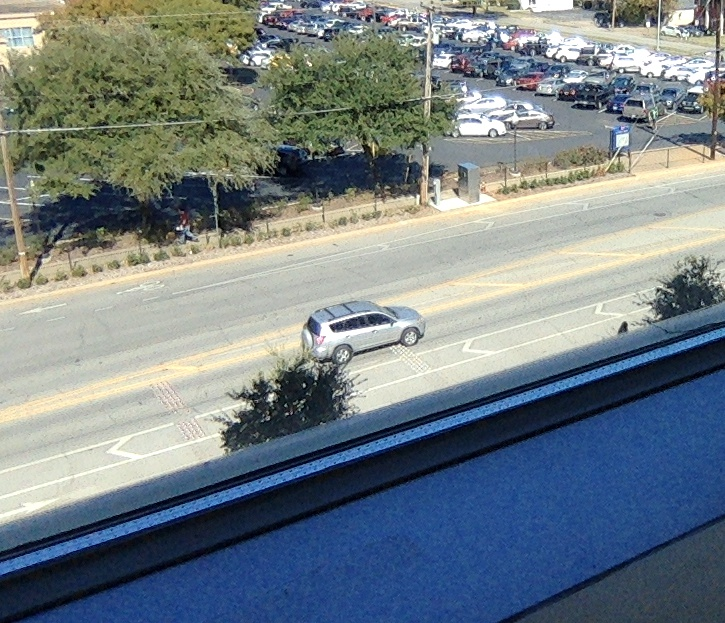car: (300, 300, 425, 366)
